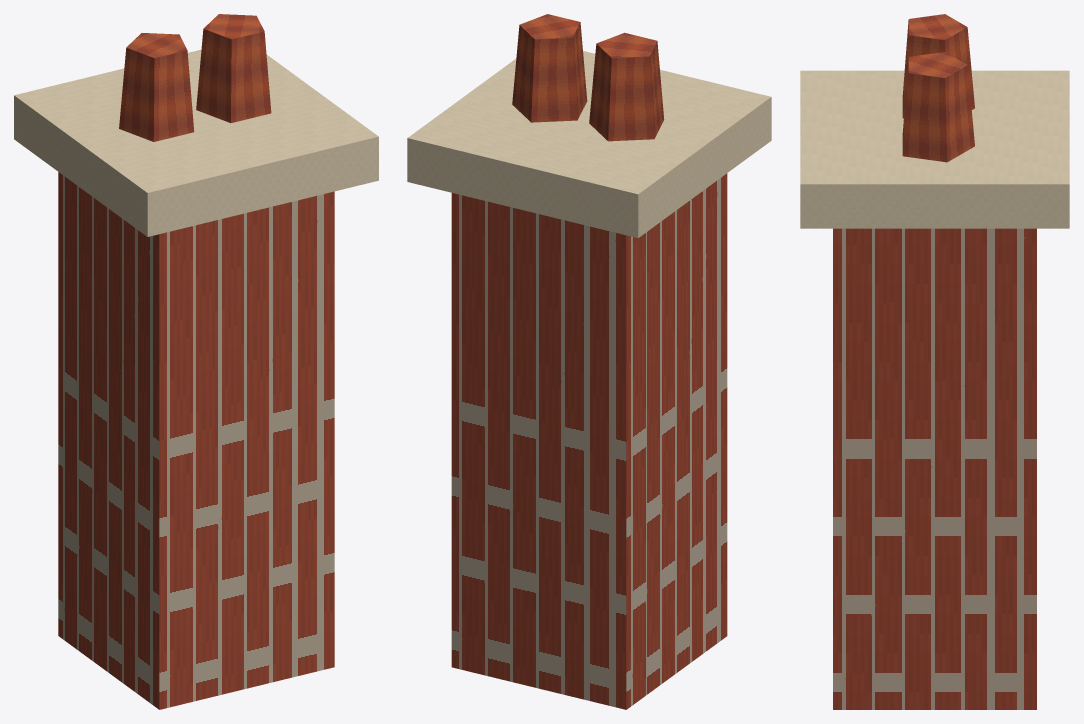
File: chimney-lod0.glb
3 views of the same model, side by side, from view 1: azimuth 30°, elevation 25°; view 2: azimuth 150°, elevation 25°; view 3: azimuth 270°, elevation 25° (orthographic).
Parts seen in each view (by area): view 1: chimney-lod0; view 2: chimney-lod0; view 3: chimney-lod0.
Boxes of the visible parts, x1,y1,x2,y2 form: chimney-lod0: [14, 14, 378, 709]; chimney-lod0: [407, 14, 771, 709]; chimney-lod0: [800, 14, 1069, 709].
Size of the model in its own units: 0.66 by 1.68 by 0.66.
Materials: 1 (1 with a texture image).
